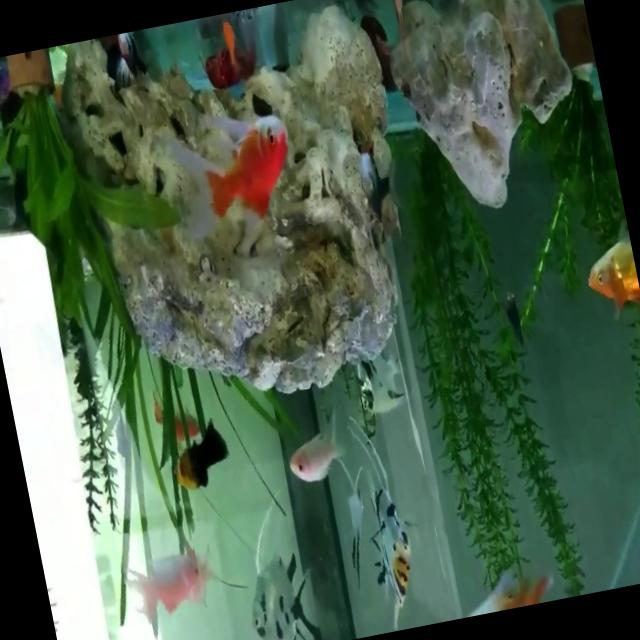GoldFish: (149, 96, 308, 252), (273, 406, 357, 496), (0, 69, 21, 242)
